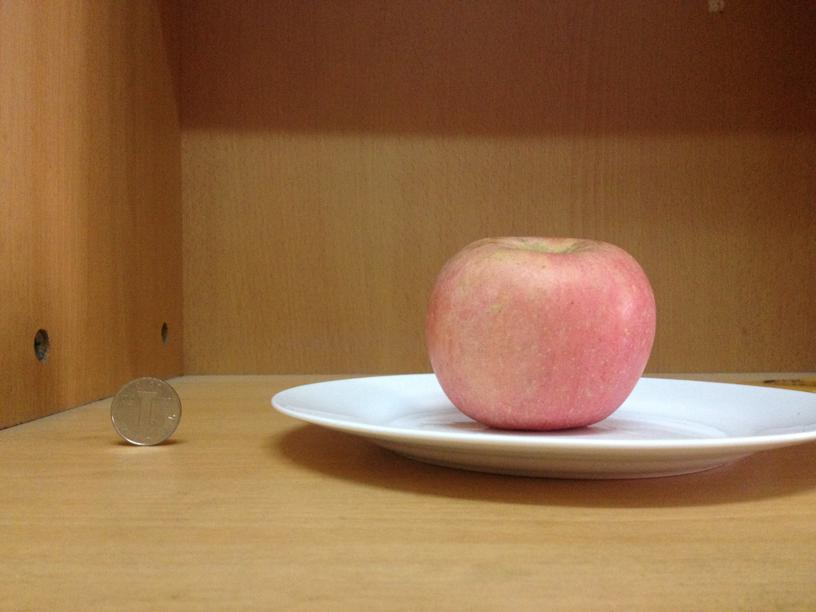apple: (428, 235, 656, 433)
coin: (112, 373, 181, 446)
